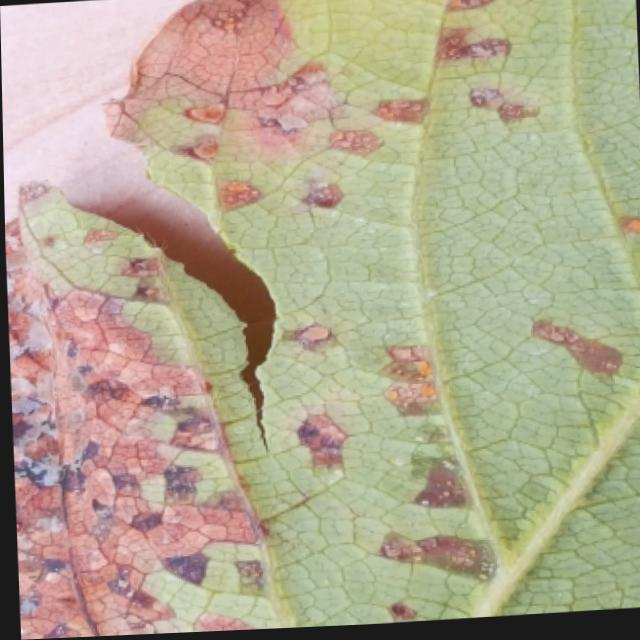Angular Leafspot: (4, 0, 640, 640)
